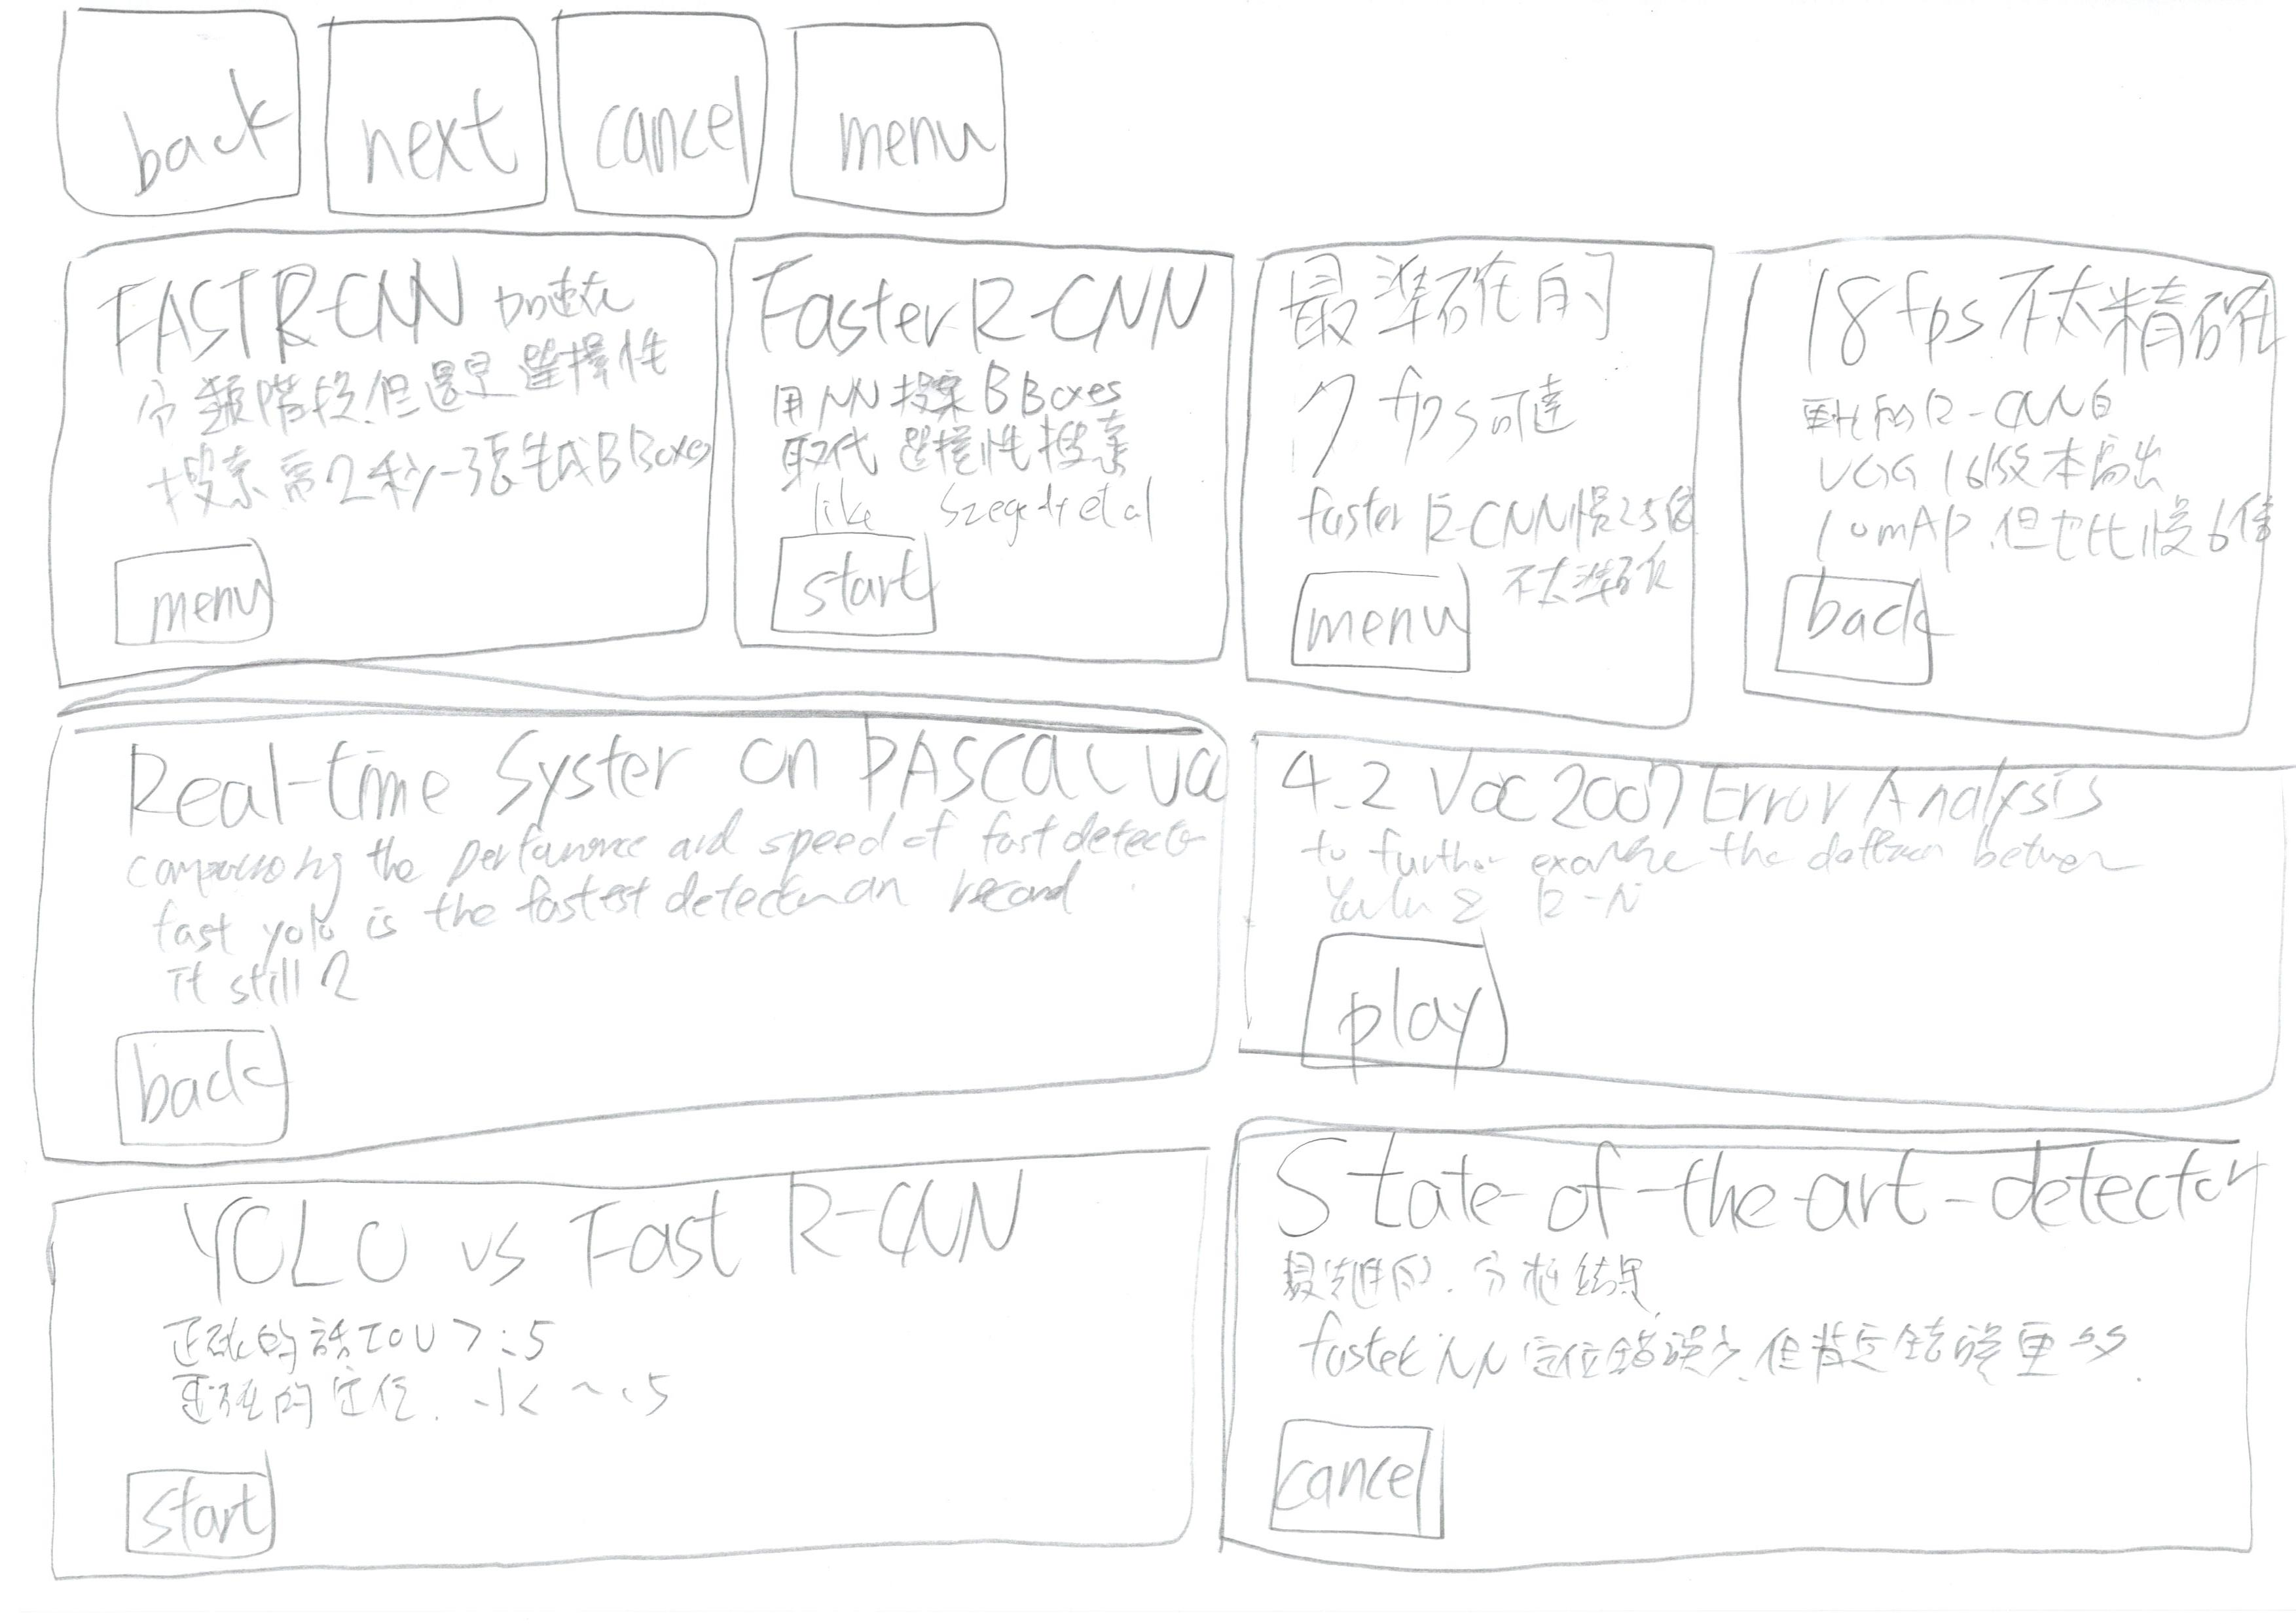back: (28, 0, 316, 251), (84, 1005, 327, 1188), (1762, 557, 1967, 705)
cancel: (545, 0, 788, 228), (1245, 1417, 1475, 1557)
double: (7, 685, 1257, 1195), (11, 1118, 1222, 1603), (1217, 1123, 2296, 1606), (1229, 692, 2296, 1149)
menu: (782, 0, 1020, 239), (65, 522, 290, 668), (1276, 554, 1498, 698)
next: (292, 0, 557, 258)
play: (1276, 909, 1558, 1107)
quadruple: (28, 216, 733, 724), (1704, 216, 2296, 754), (1192, 213, 1733, 750), (723, 223, 1253, 719)
row: (11, 1079, 2296, 1624), (11, 221, 2296, 765), (11, 647, 2296, 1190), (11, 0, 2296, 255)
small-title: (1236, 1128, 2227, 1271), (135, 740, 1178, 826), (155, 1188, 1065, 1285), (1296, 747, 2129, 838), (1297, 250, 1649, 441), (1825, 269, 2270, 381), (765, 258, 1215, 359), (88, 262, 489, 350)
start: (751, 520, 958, 647), (98, 1455, 308, 1564)
text: (1257, 1244, 2180, 1403), (120, 826, 1155, 949), (1280, 814, 2110, 932), (146, 353, 673, 520), (754, 367, 1162, 548), (141, 1301, 693, 1434), (1795, 394, 2245, 557), (1313, 478, 1660, 575)
